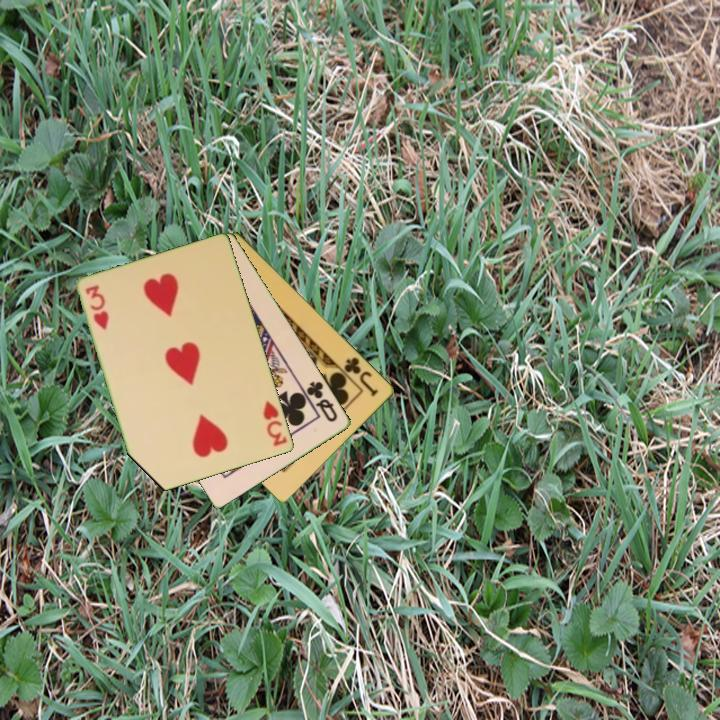3h: (260, 397, 290, 450), (82, 281, 112, 333)
Jc: (341, 353, 382, 400)
Qc: (303, 377, 341, 425)
